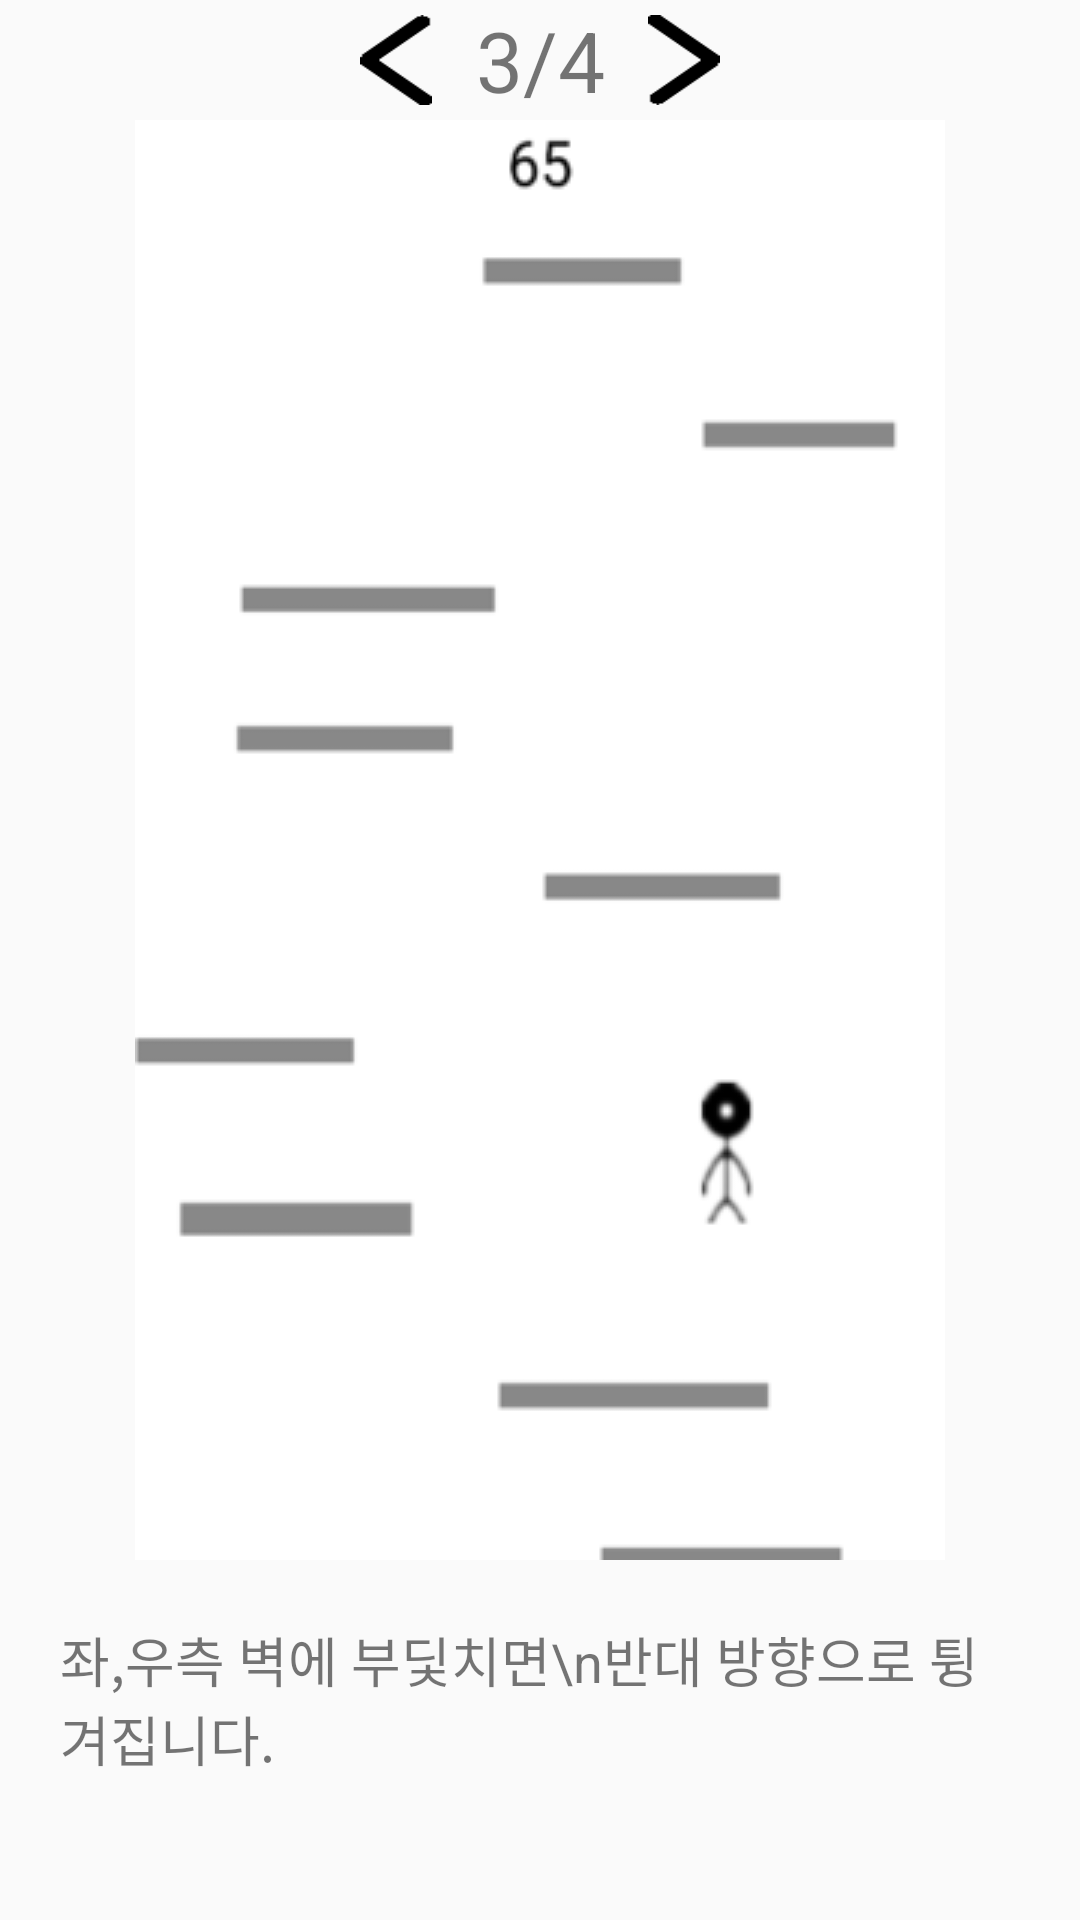

Icons on this 1080×1920 Android screen, each with the point to tap as (x=x, y=y):
beforepage: (x=396, y=60)
nextpage: (x=684, y=60)
